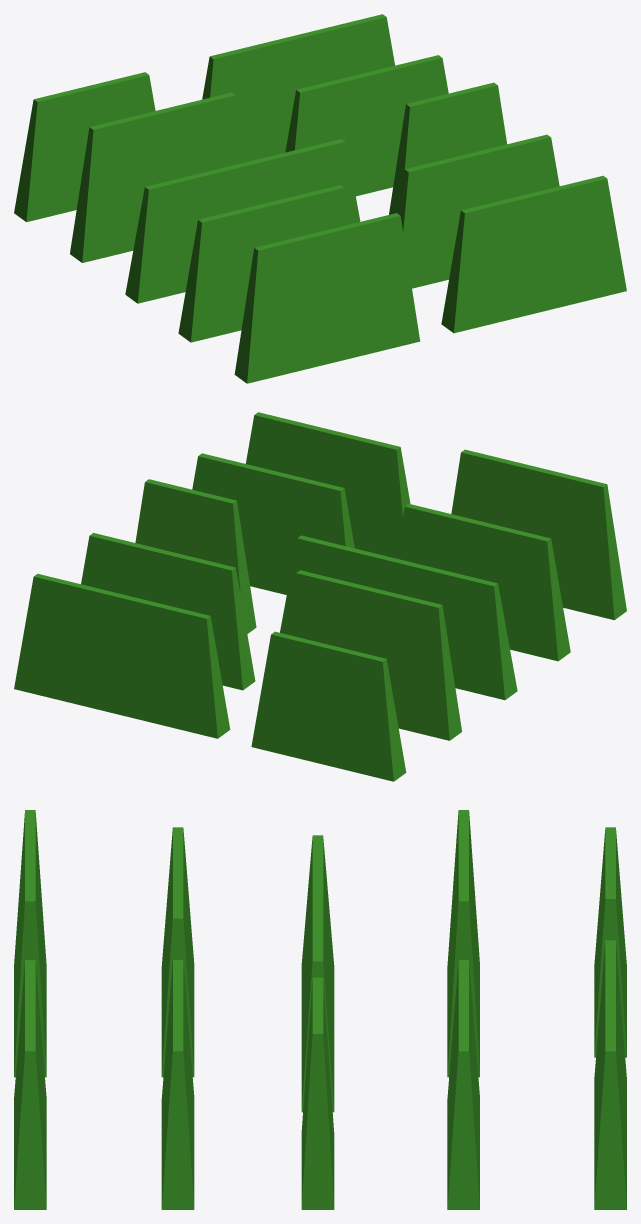
The model's file is farm_plants_1_green_mat.fbx.
The picture shows the model from 3 angles, top to bottom: view 1: azimuth 30°, elevation 25°; view 2: azimuth 150°, elevation 25°; view 3: azimuth 270°, elevation 25°; orthographic projection. The views are drawn at different scales.
Visible parts, largest first — view 1: farm_plants_1_green_mat; view 2: farm_plants_1_green_mat; view 3: farm_plants_1_green_mat.
Part boxes in pixels (box(x1,y1,x2,y2)): farm_plants_1_green_mat: box(14, 14, 626, 383); farm_plants_1_green_mat: box(14, 412, 626, 781); farm_plants_1_green_mat: box(14, 810, 626, 1209).
Bounding box in the file's own units: 186 × 59.04 × 198.
